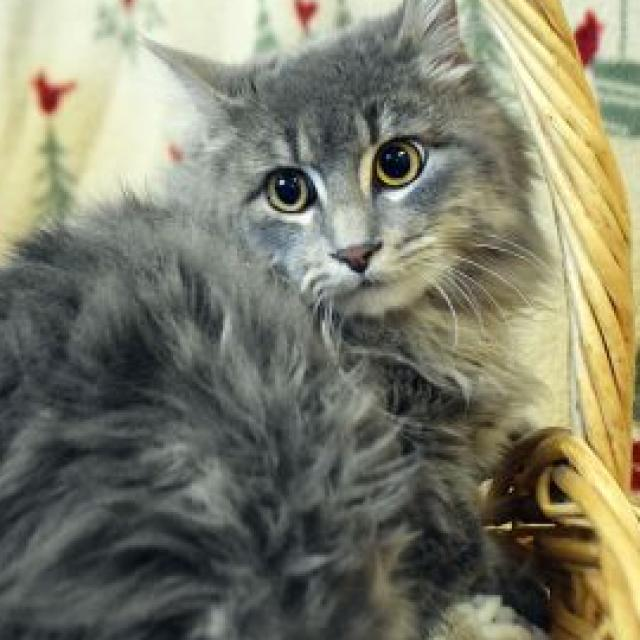Maine Coon: (0, 0, 521, 640)
